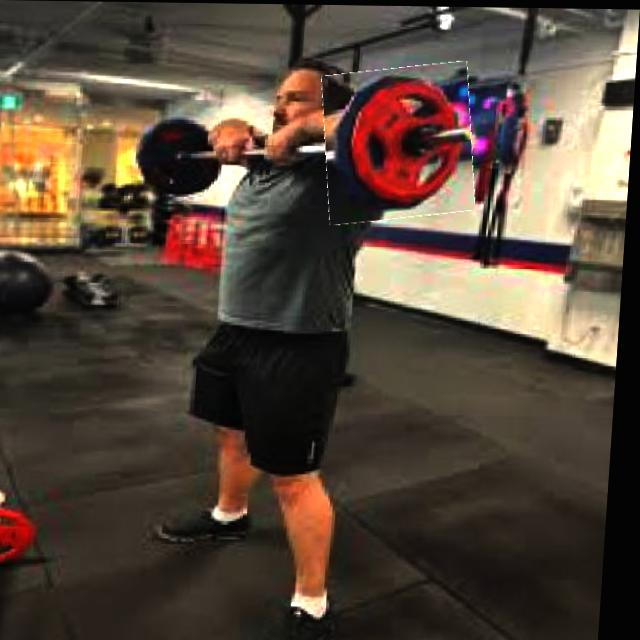barbell: (321, 63, 482, 223)
